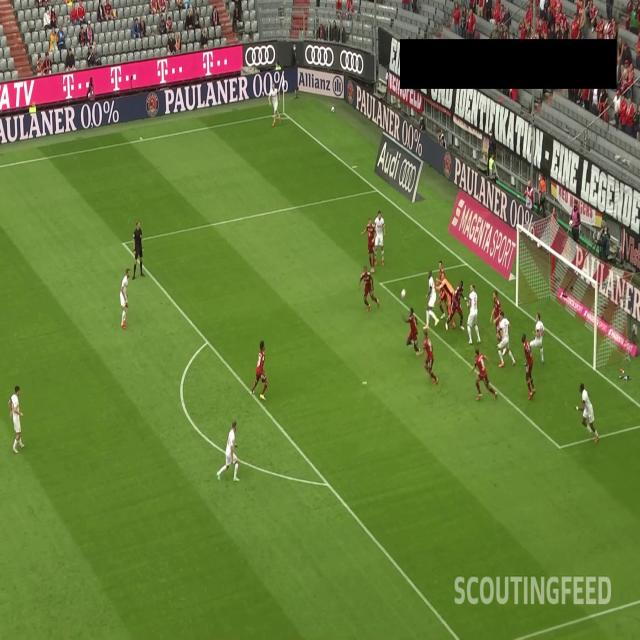ball: (396, 284, 411, 303)
player: (571, 378, 601, 444), (214, 417, 240, 486), (467, 351, 500, 402), (248, 332, 270, 403), (8, 380, 28, 456), (420, 332, 443, 388), (518, 328, 536, 399), (494, 312, 516, 369), (421, 266, 441, 328), (464, 278, 482, 344), (446, 275, 466, 333), (359, 260, 379, 313), (118, 266, 134, 332), (401, 304, 421, 356), (436, 276, 458, 323), (488, 284, 504, 348), (361, 218, 378, 275), (434, 249, 448, 318), (527, 308, 545, 361), (372, 209, 388, 268), (267, 78, 283, 126)
referee: (130, 217, 148, 281)
